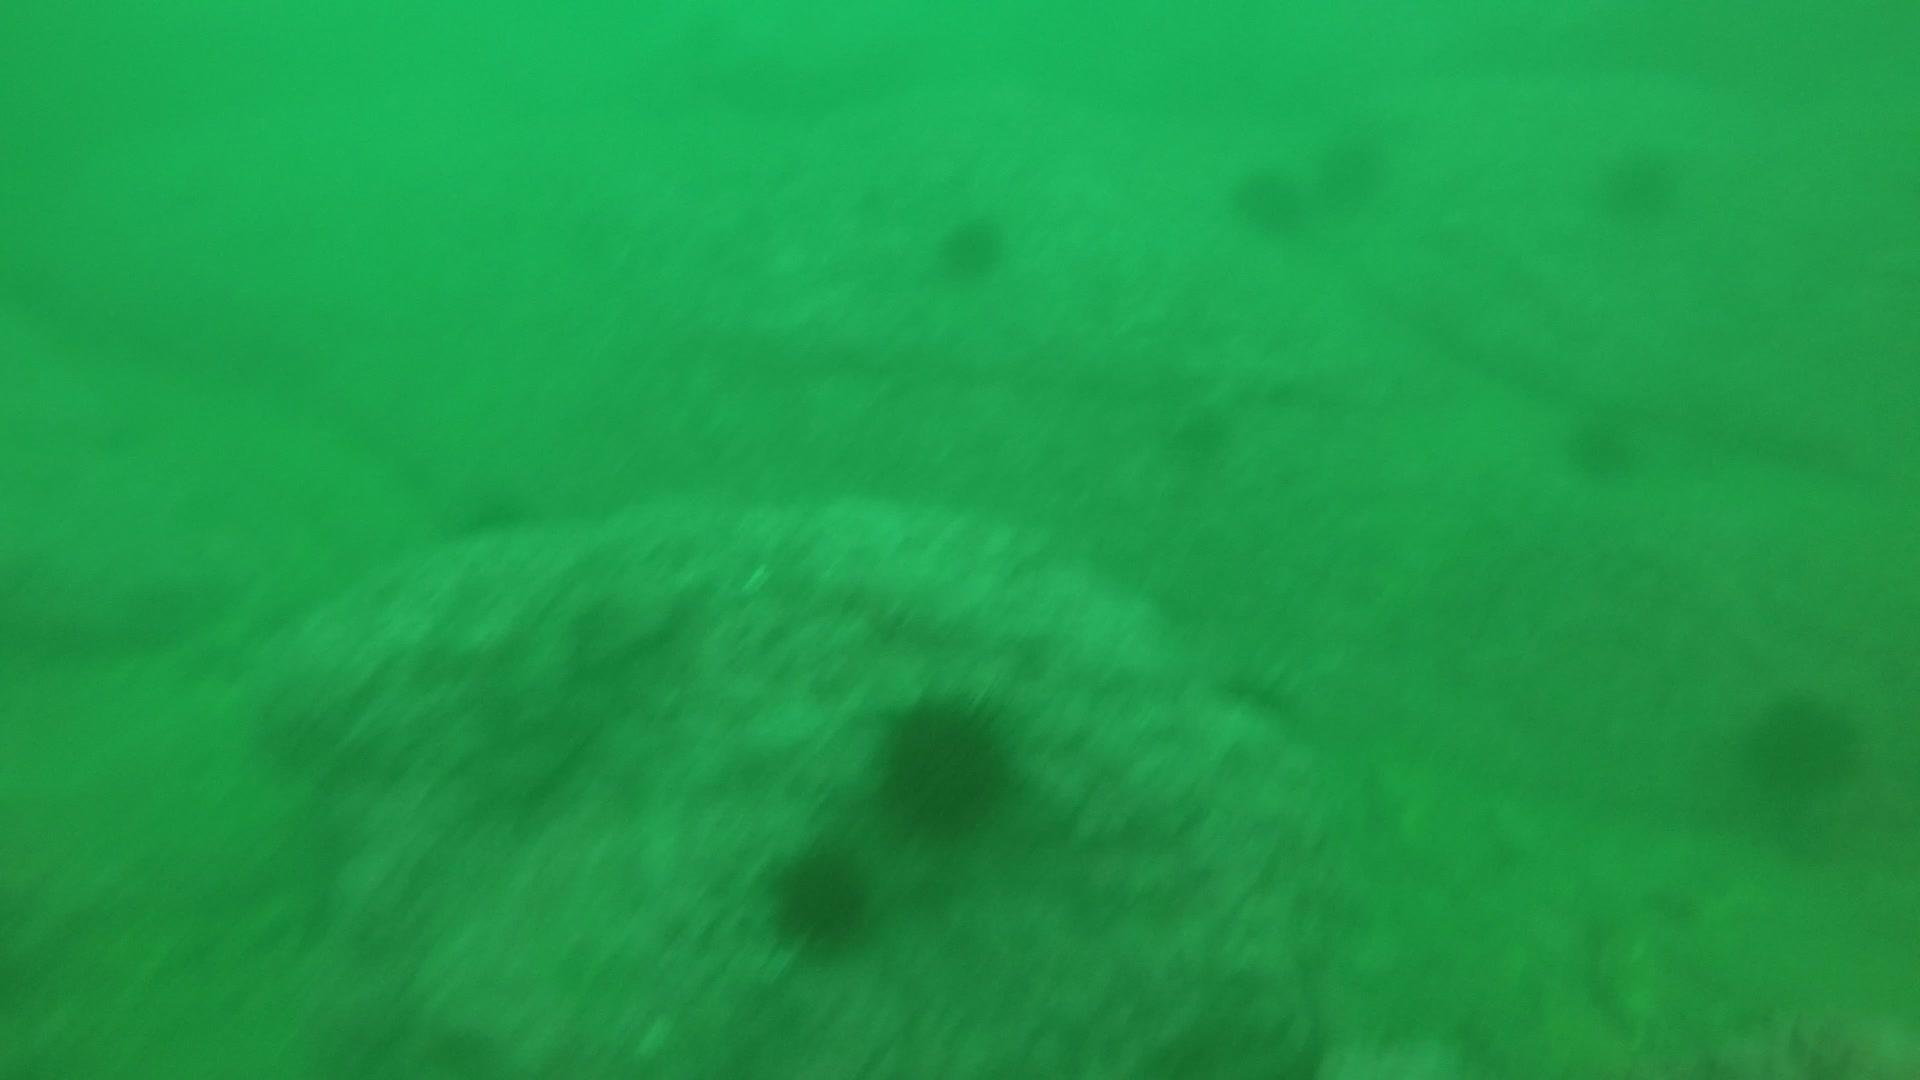echinus: (870, 686, 1019, 839), (1737, 684, 1869, 802), (764, 837, 880, 957), (1589, 135, 1688, 223), (1559, 400, 1644, 483), (1312, 121, 1395, 206), (1226, 158, 1309, 236), (932, 207, 1011, 284)
